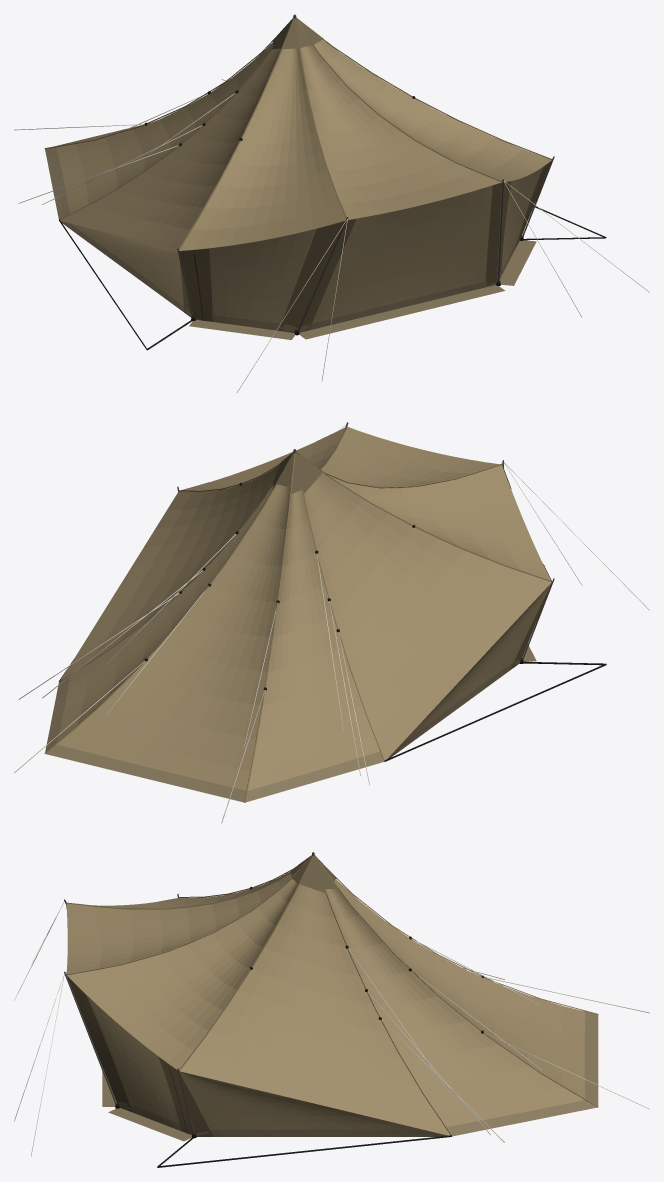
File: zanearts-woota-l-tc.glb
3 renders of one model, top to bottom at view 1: azimuth 30°, elevation 25°; view 2: azimuth 150°, elevation 25°; view 3: azimuth 270°, elevation 25°, orthographic. The views are drawn at different scales.
Size of the model in its own units: 6.02 by 2.76 by 7.57.
